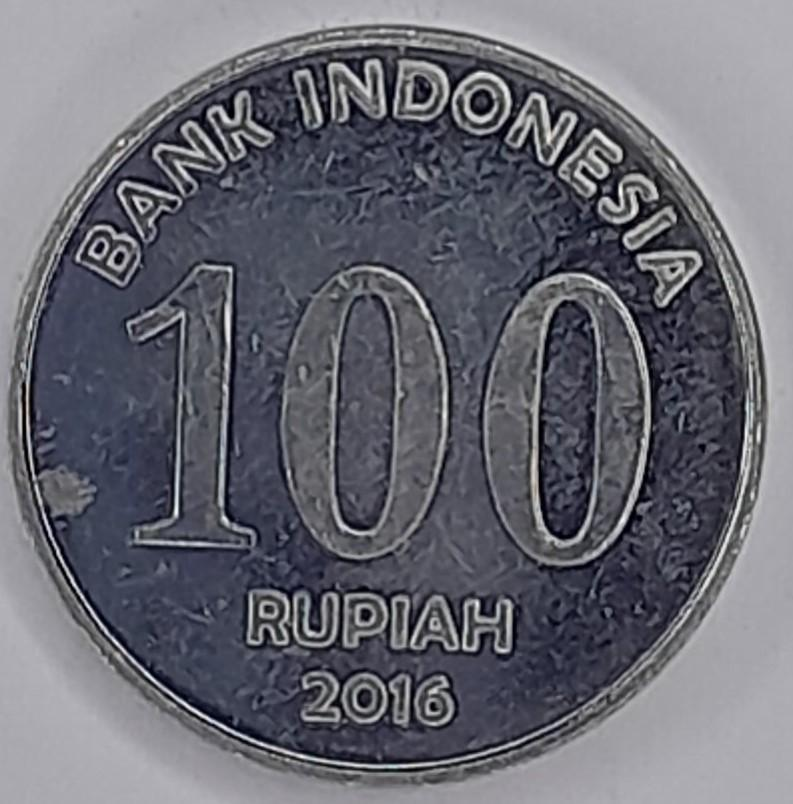coin_100_e2016: (3, 19, 772, 786)
